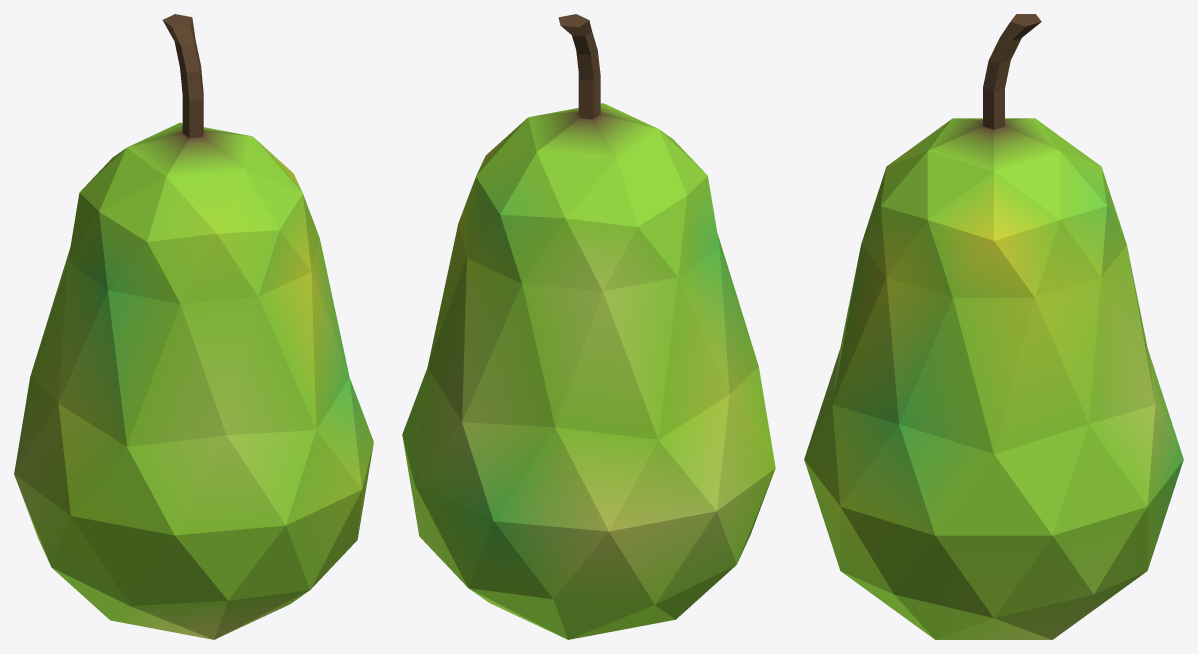
Rendered from pear.glb.
3 views of the same model, side by side, from view 1: azimuth 30°, elevation 25°; view 2: azimuth 150°, elevation 25°; view 3: azimuth 270°, elevation 25° (orthographic). The views are drawn at different scales.
Parts seen in each view (by area): view 1: Pear; view 2: Pear; view 3: Pear.
Part boxes in pixels (x1,y1,x2,y2): Pear: [14, 14, 373, 639]; Pear: [402, 14, 775, 639]; Pear: [804, 14, 1183, 639].
Bounding box in the file's own units: 1.9 × 3.56 × 2.
